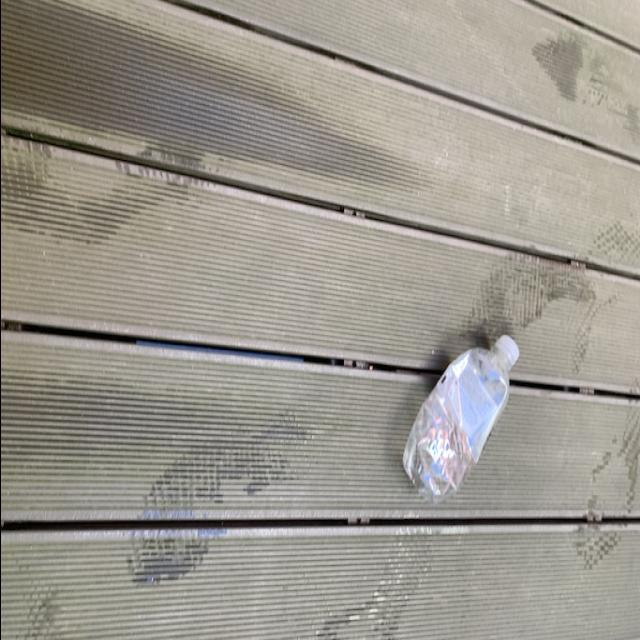PET: (401, 332, 525, 508)
